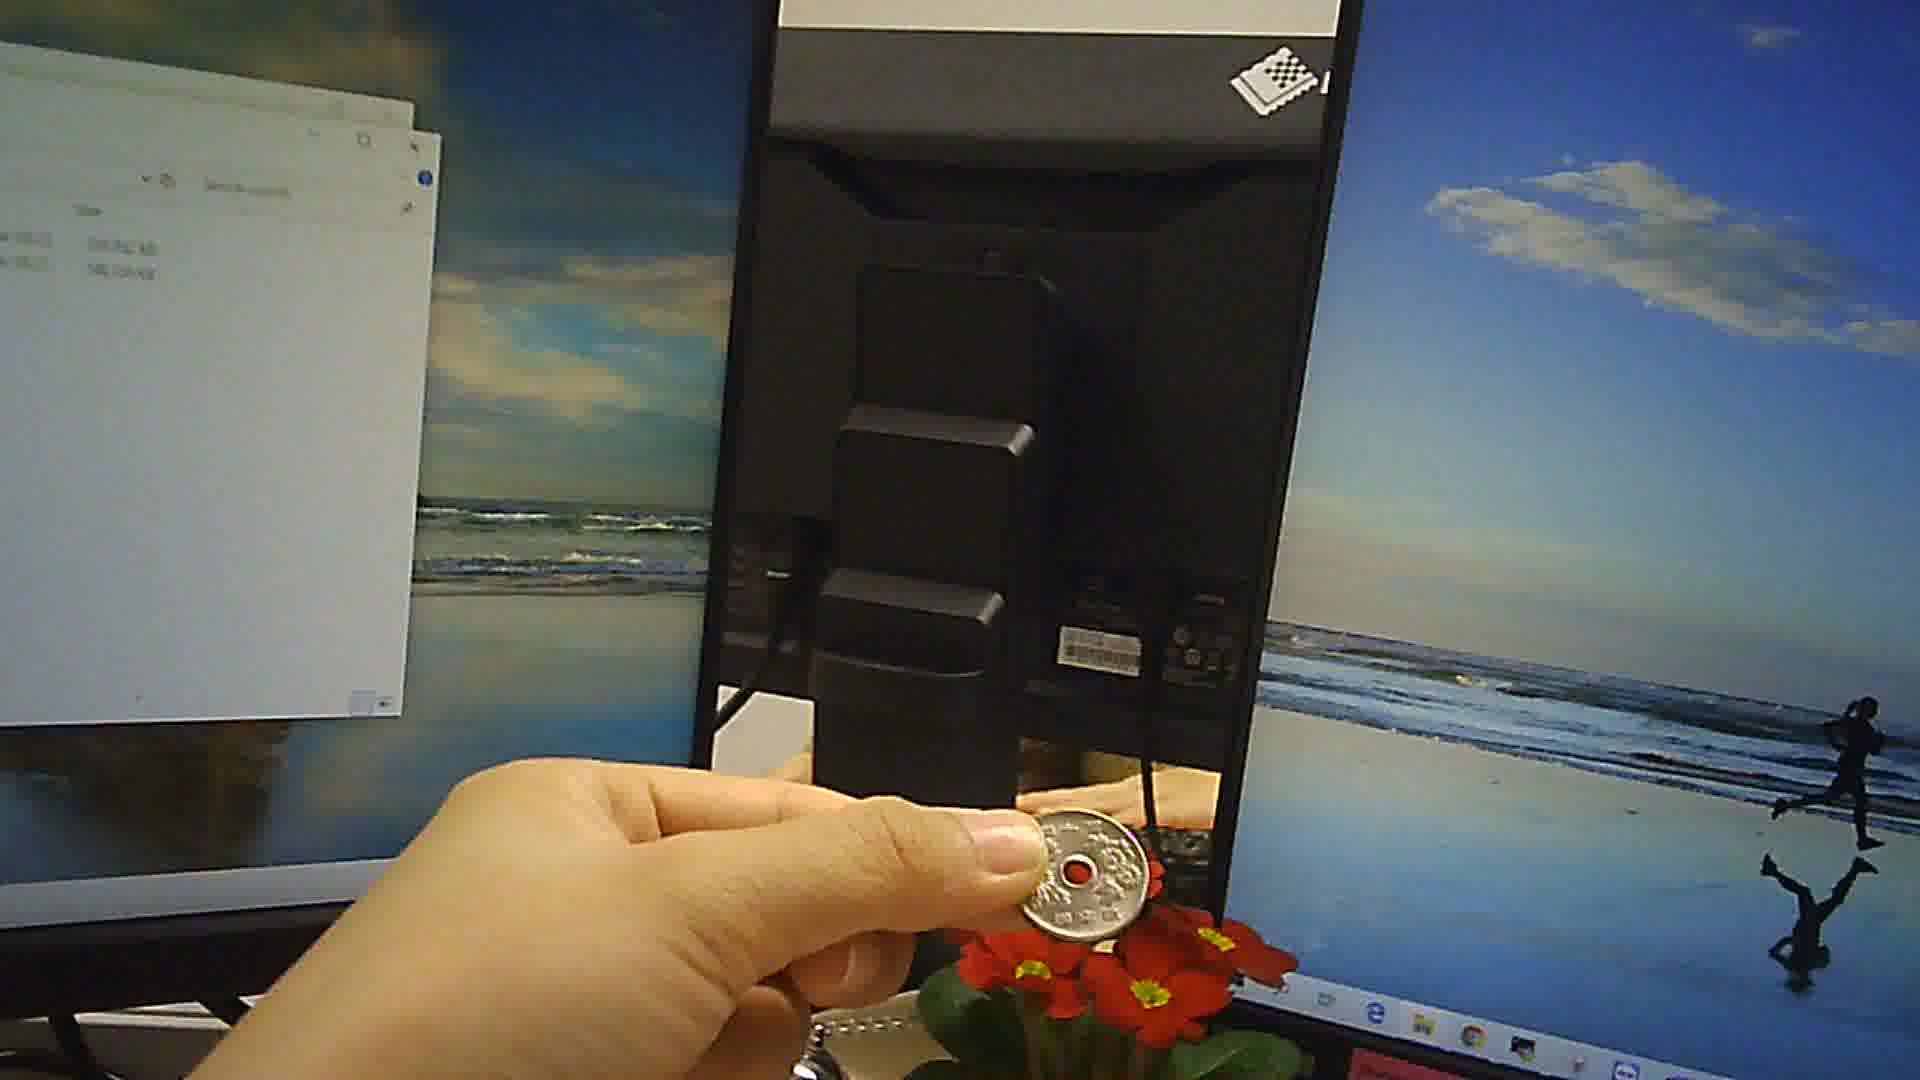50 Yen: (1005, 798, 1154, 942)
